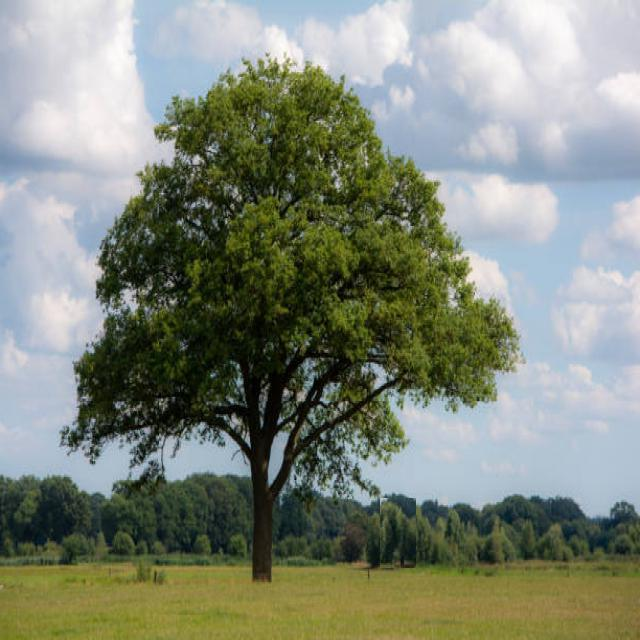tree: (83, 39, 480, 580), (380, 498, 416, 568)
